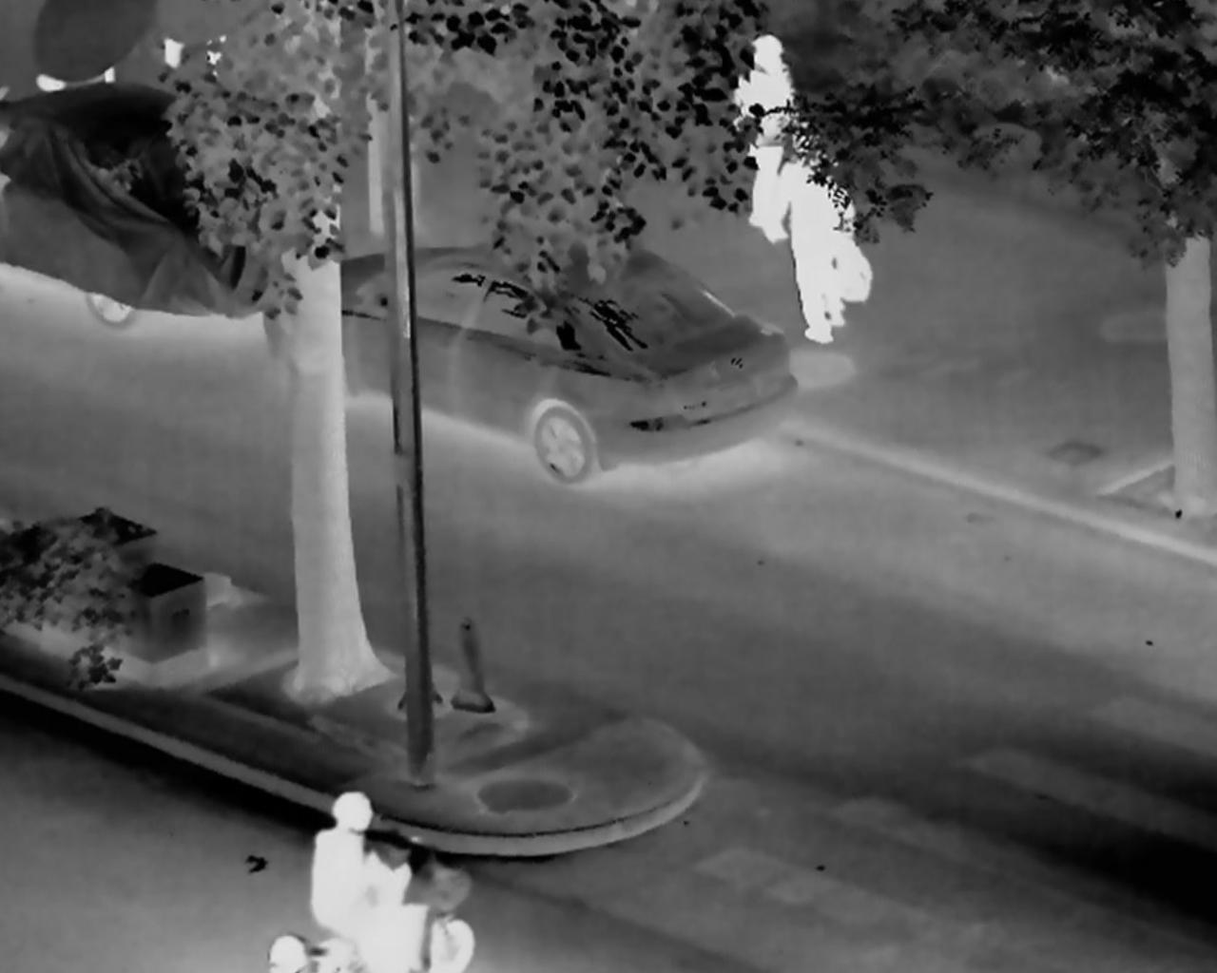person: (776, 120, 871, 348), (736, 33, 807, 242), (310, 787, 392, 953)
